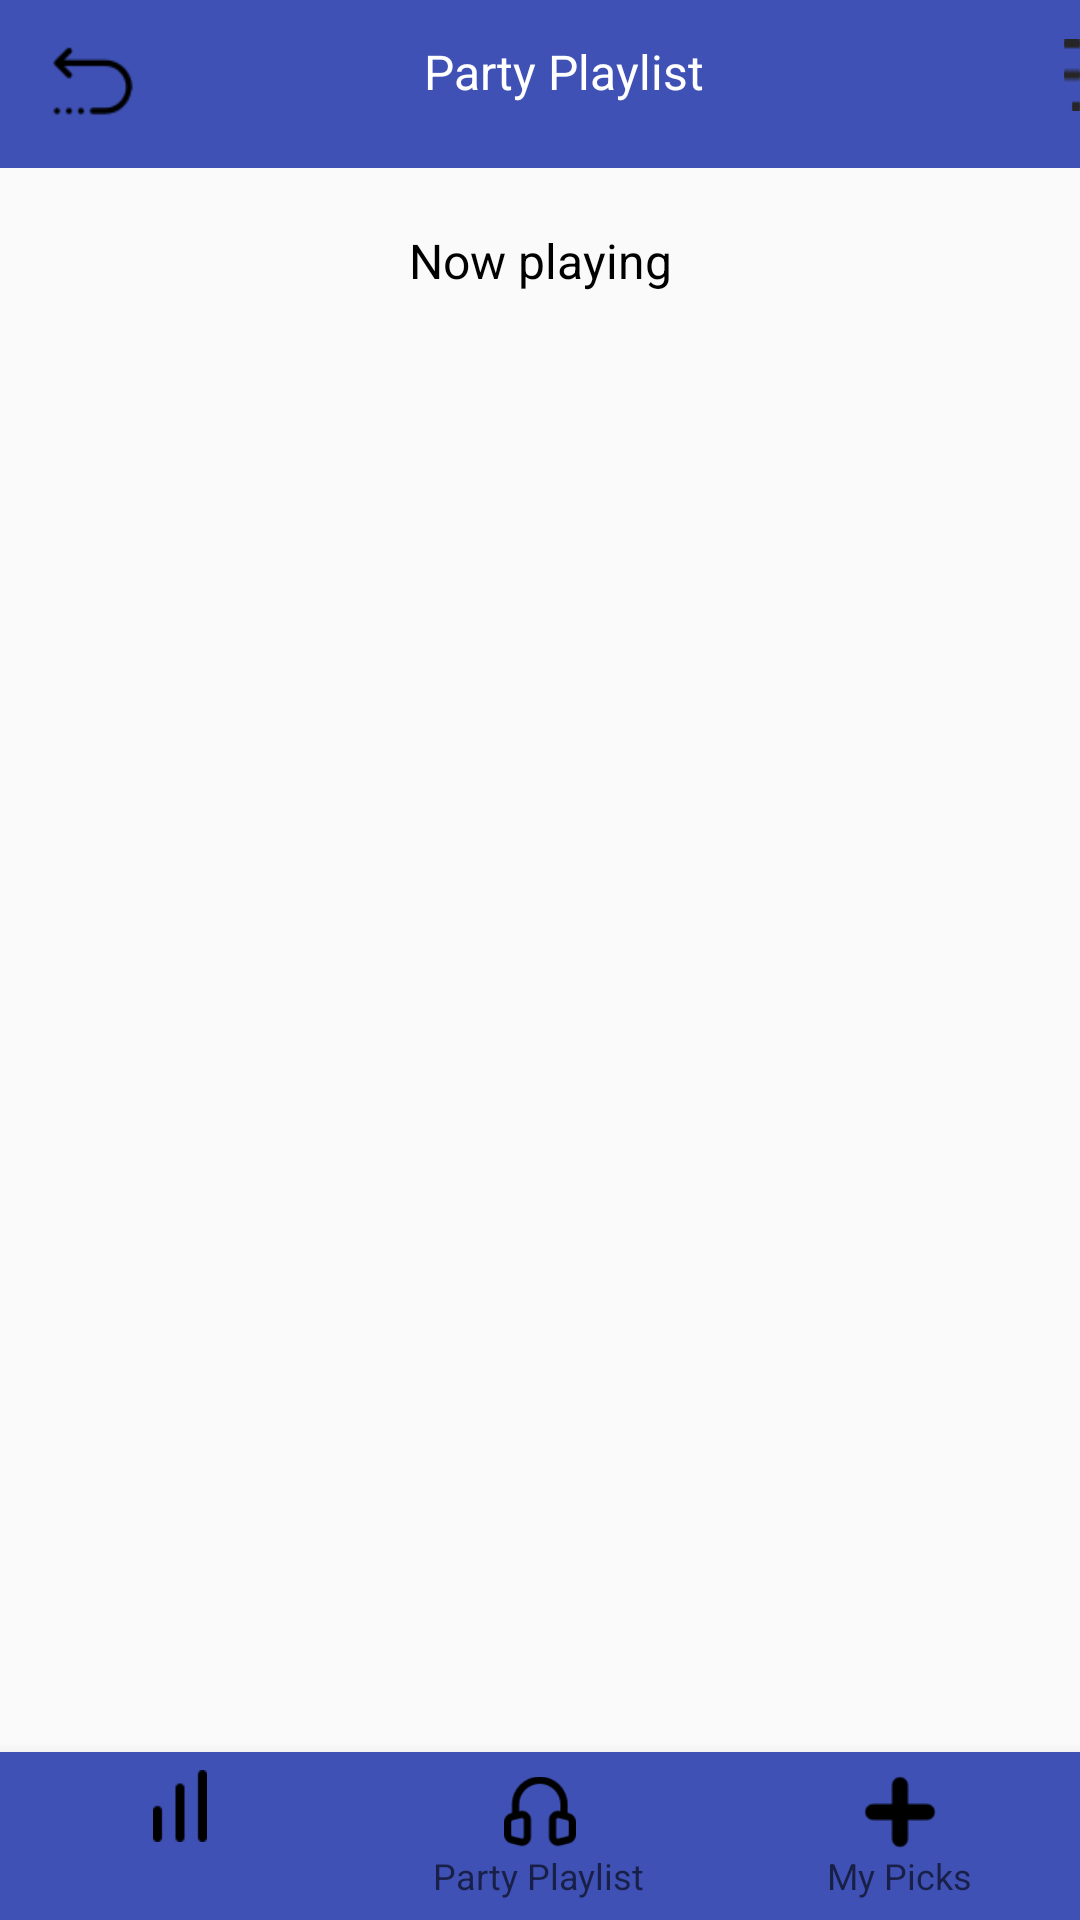

Named icons in this screenshot (1080 × 1920) and their centers, (x=x, y=y):
return: (x=93, y=81)
